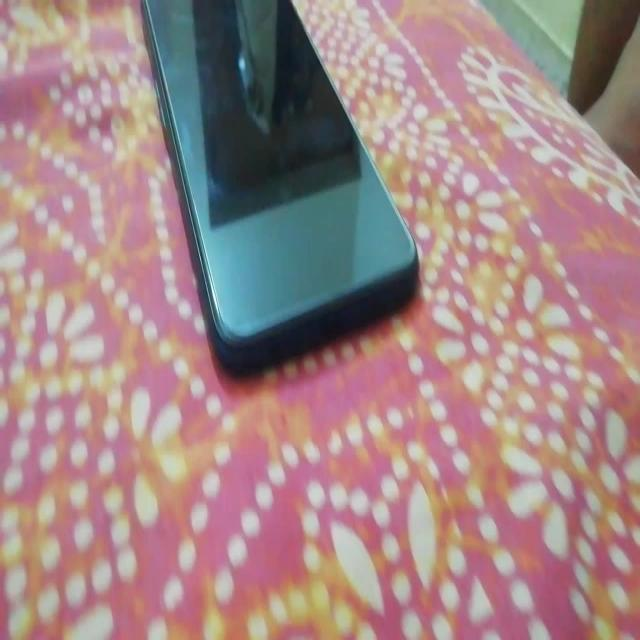phone: (138, 4, 424, 380)
